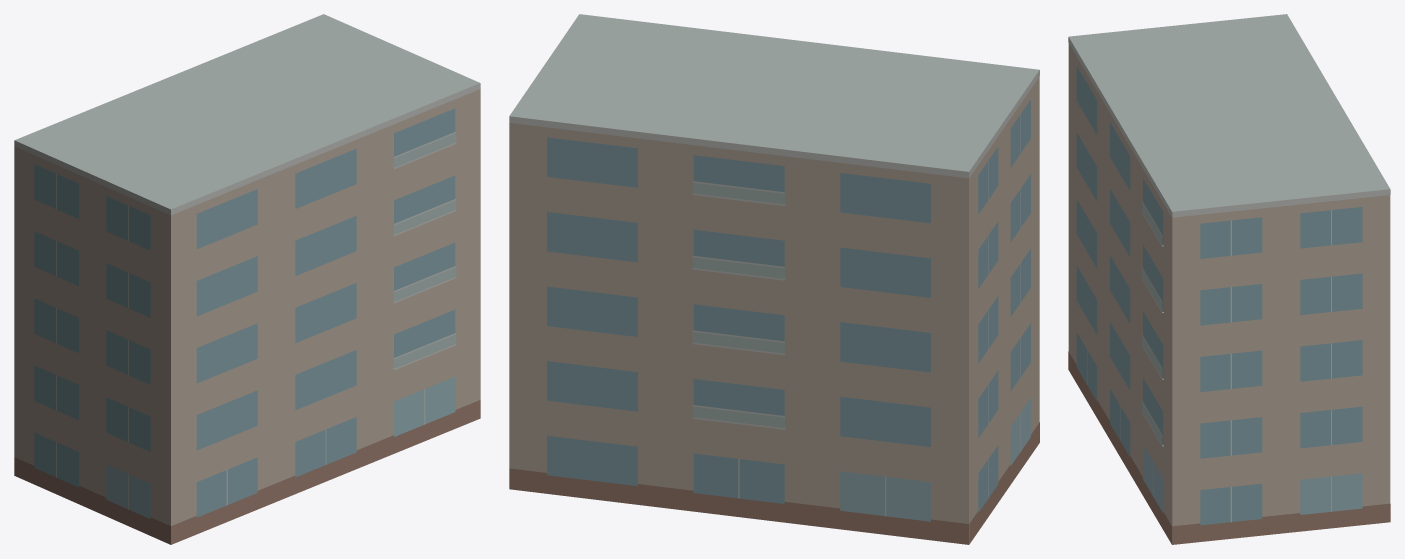
File: survey-upis-32956324.glb
The picture shows the model from 3 angles, left to right: view 1: azimuth 30°, elevation 25°; view 2: azimuth 150°, elevation 25°; view 3: azimuth 270°, elevation 25°; orthographic projection. The views are drawn at different scales.
Parts seen in each view (by area): view 1: survey-upis-32956324.tmp; view 2: survey-upis-32956324.tmp; view 3: survey-upis-32956324.tmp.
Boxes of the visible parts, left/top/right/bottom form: survey-upis-32956324.tmp: left=14, top=14, right=480, bottom=544; survey-upis-32956324.tmp: left=509, top=14, right=1039, bottom=544; survey-upis-32956324.tmp: left=1068, top=14, right=1390, bottom=544.
Bounding box in the file's own units: 17.72 × 13.9 × 12.19.
